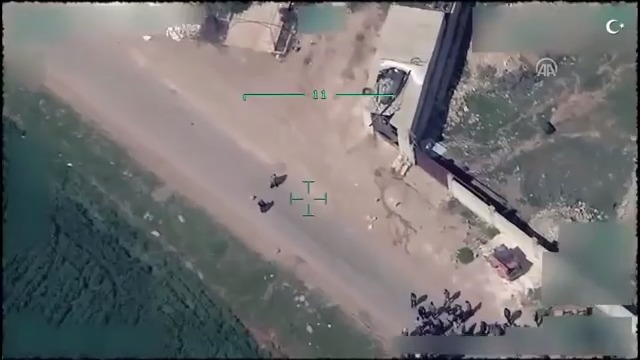arac: (482, 242, 523, 279)
insan: (252, 194, 268, 214), (462, 294, 478, 313), (439, 285, 452, 307), (407, 290, 420, 308), (269, 172, 281, 191)
